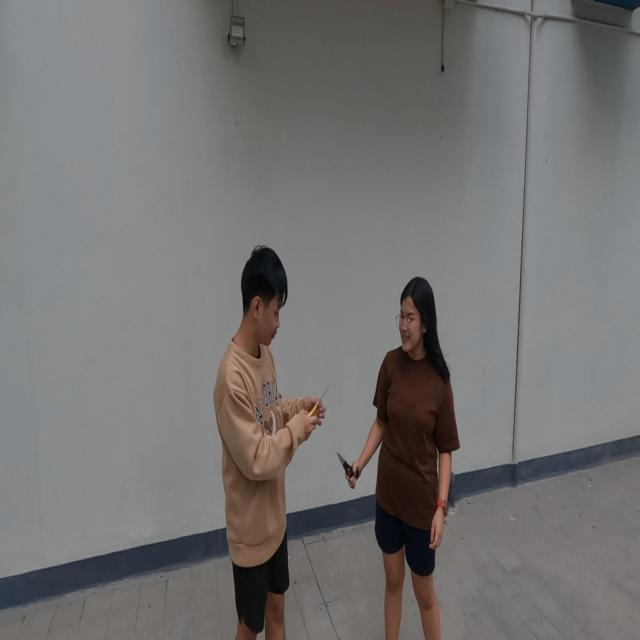scissor: (336, 450, 360, 491)
